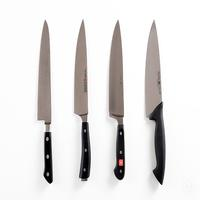knife: (139, 13, 181, 198), (27, 15, 68, 190), (100, 15, 133, 182), (68, 19, 100, 187)
